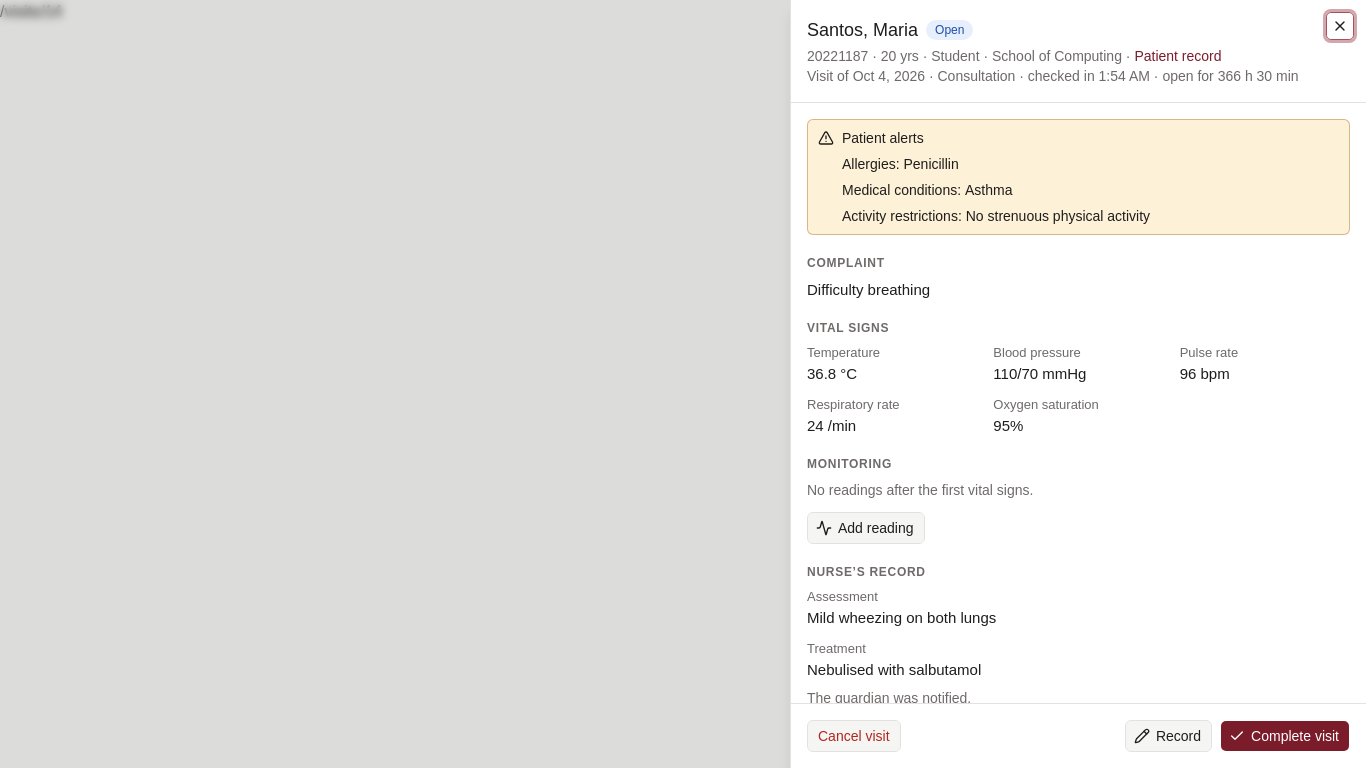
Test: keeps the dialog open and explains when the server refuses to cancel
The width and height of the screenshot is (1366, 768).
Click the button "Cancel visit". click: (854, 736)
box: [807,720,901,752]
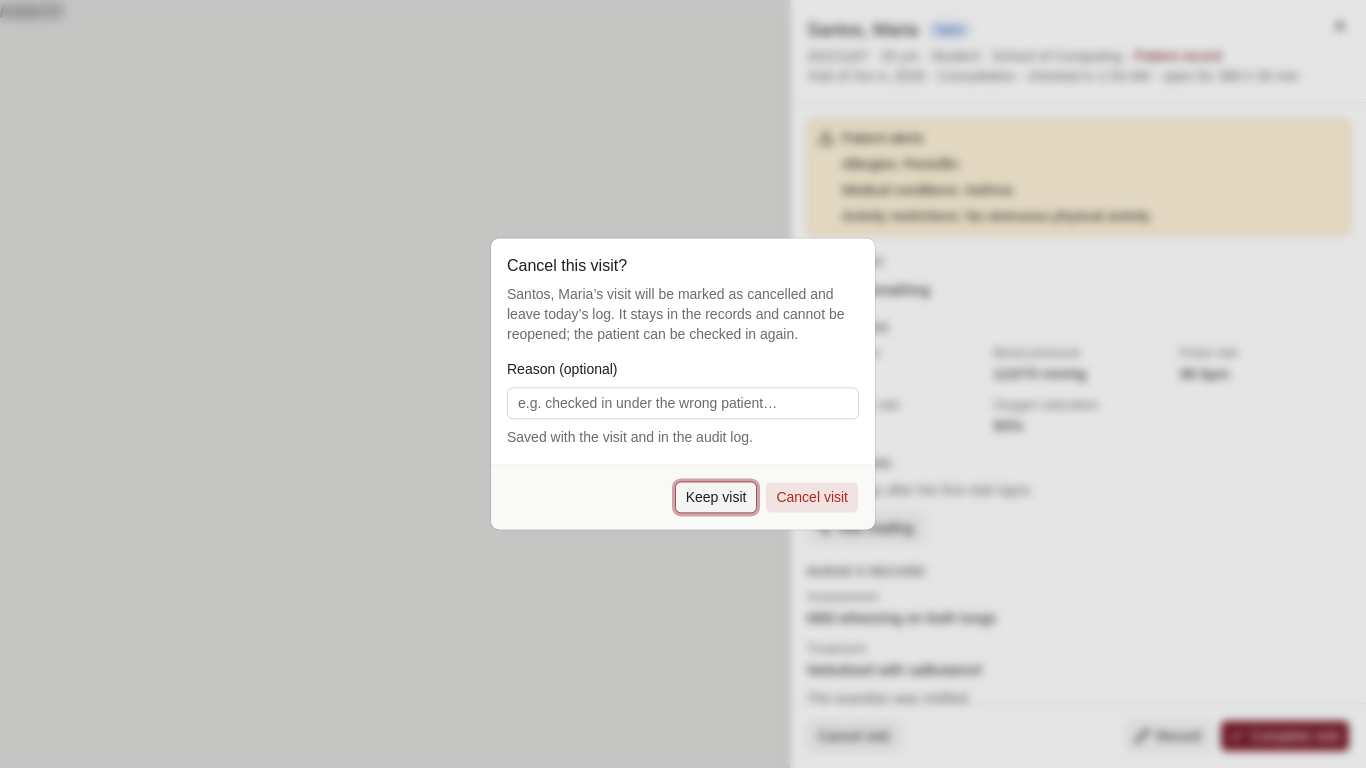
Click the button "Cancel visit". click: (812, 498)
box: [765,482,859,514]
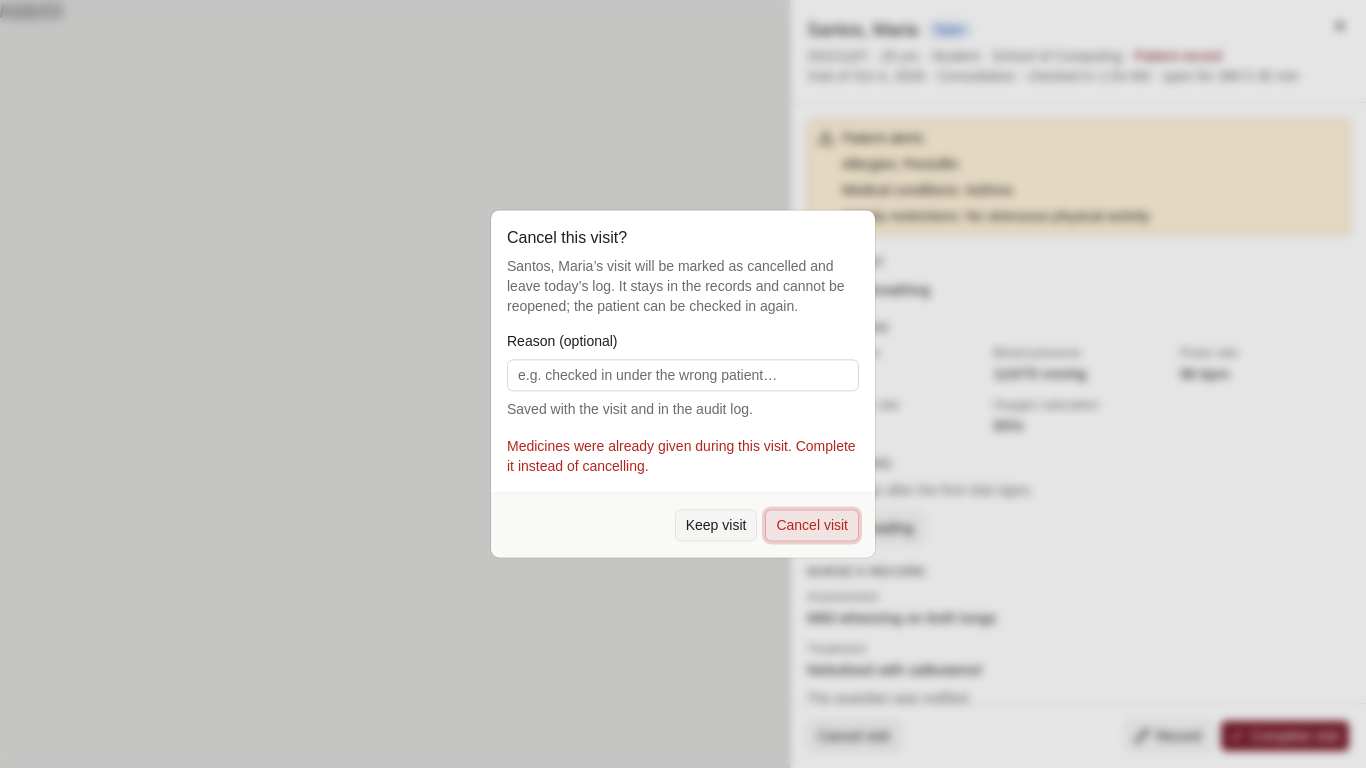
Result: the message shows "Medicines were already given" at [507,439,856,475]
